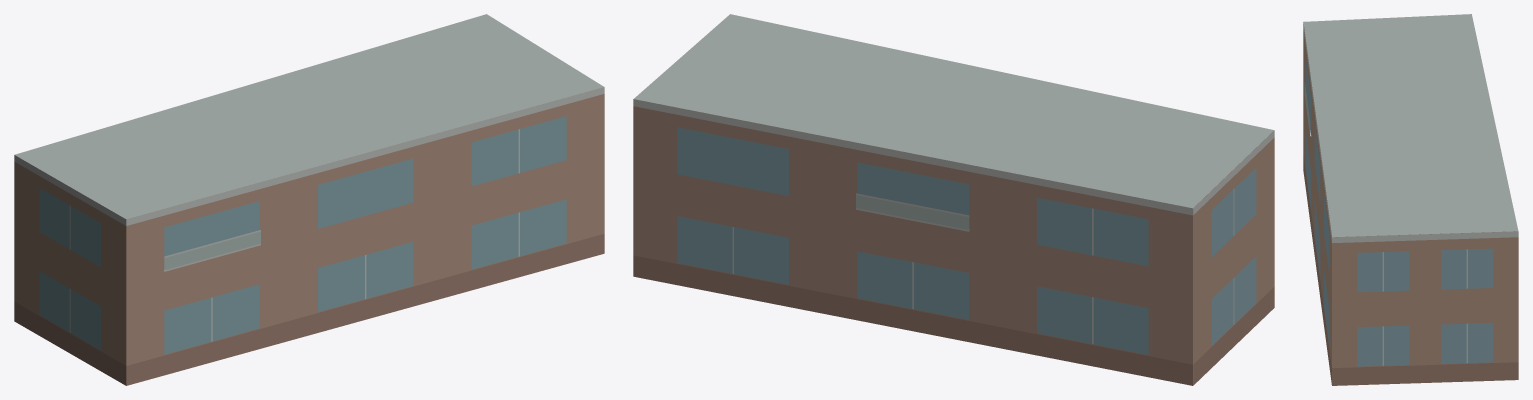
Rendered from survey-upis-32531213.glb.
The picture shows the model from 3 angles, left to right: view 1: azimuth 30°, elevation 25°; view 2: azimuth 150°, elevation 25°; view 3: azimuth 270°, elevation 25°; orthographic projection. The views are drawn at different scales.
Visible parts, largest first — view 1: survey-upis-32531213.tmp; view 2: survey-upis-32531213.tmp; view 3: survey-upis-32531213.tmp.
Boxes of the visible parts, x1,y1,x2,y2 form: survey-upis-32531213.tmp: (14, 14, 604, 385); survey-upis-32531213.tmp: (633, 14, 1274, 385); survey-upis-32531213.tmp: (1303, 14, 1518, 385).
Bounding box in the file's own units: 19.65 × 6.1 × 8.01.
